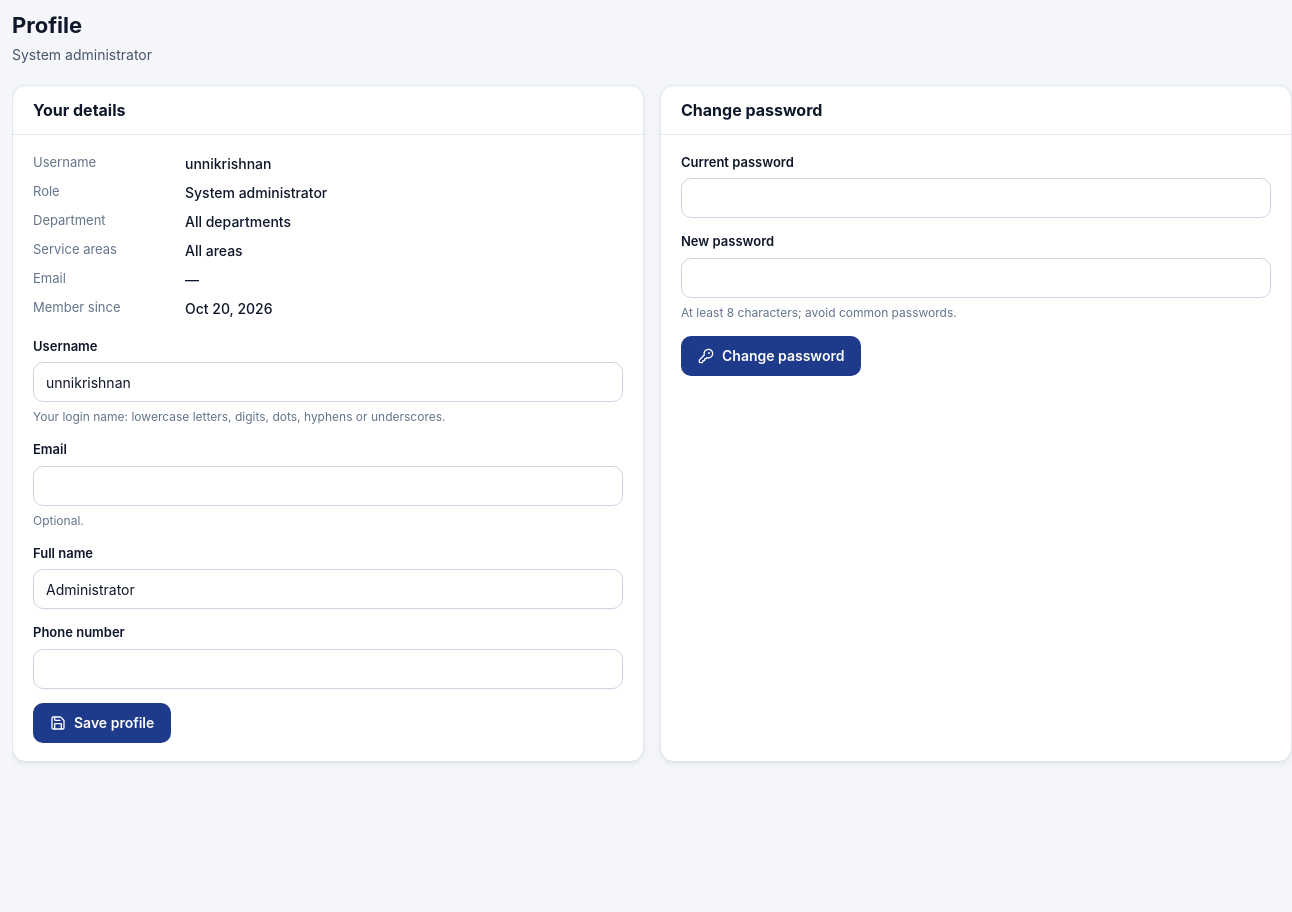
Test: ProfilePage username and email editing › saves a new username and email
The image size is (1292, 912).
Replace the text in the field labelled "Username" with "Kochi.Admin" at [328, 382], box [33,362,623,402]
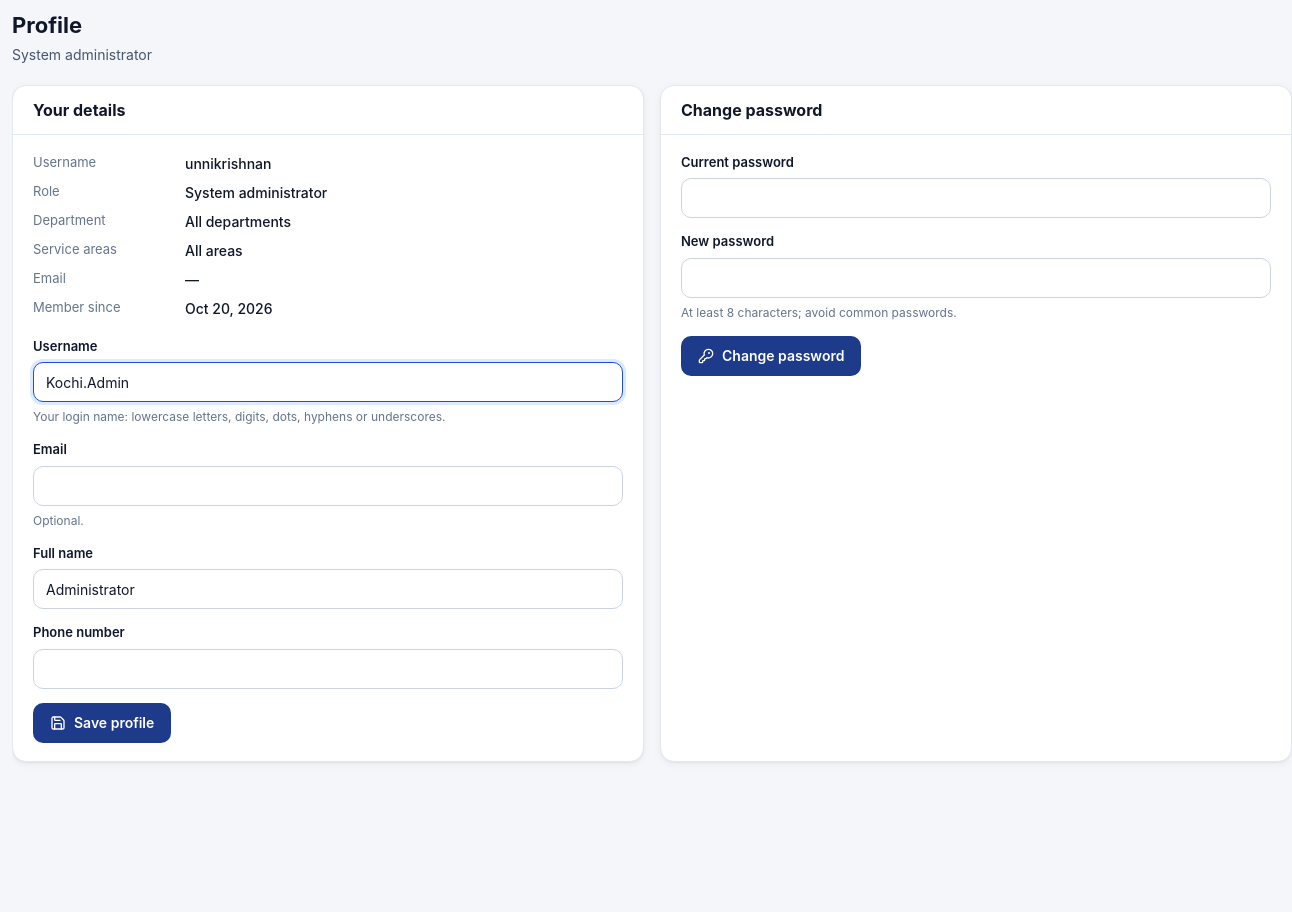
Type "Admin@Kochi.gov" into the field labelled "Email" at [328, 486], box [33,466,623,506]
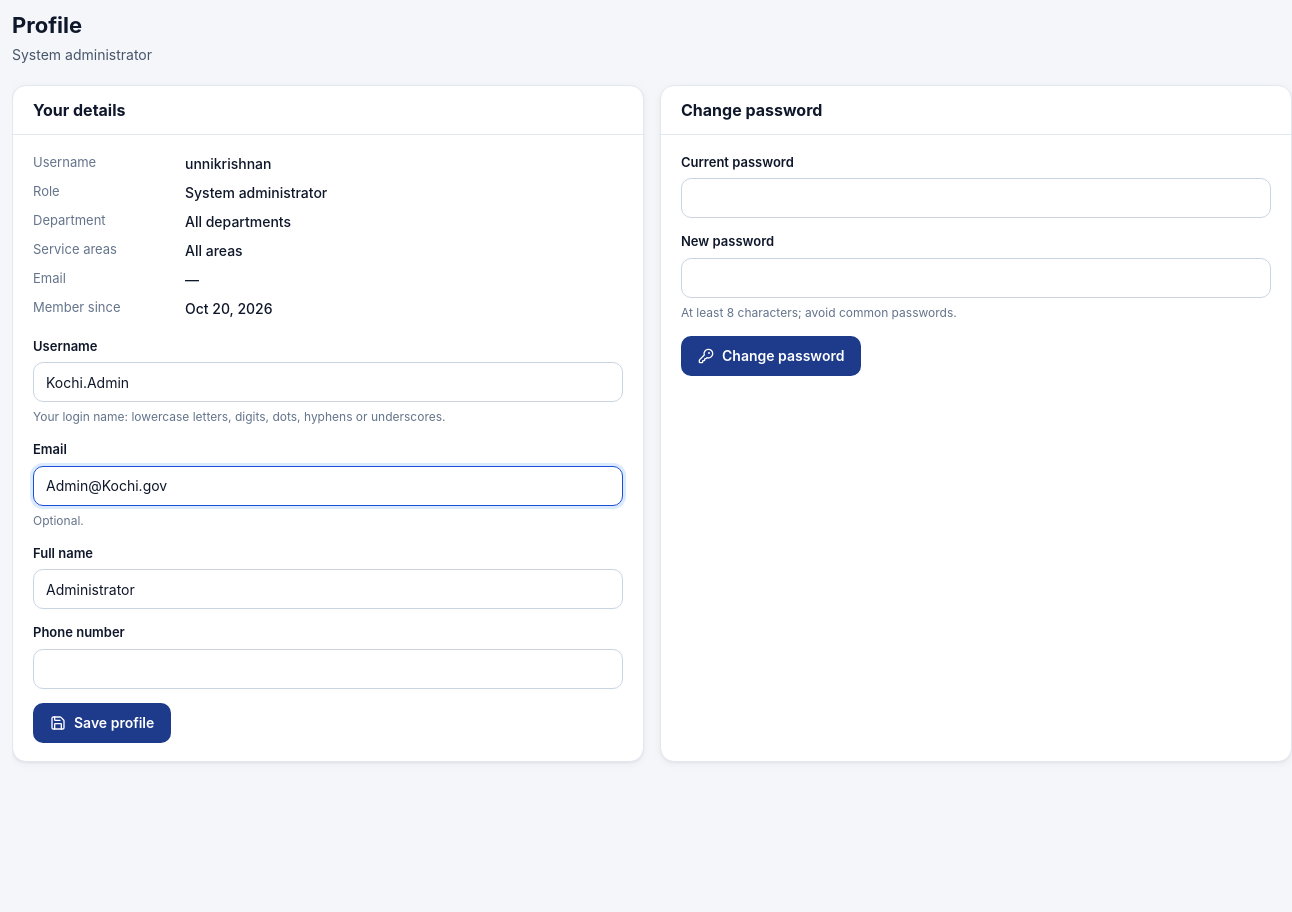
Click the button "Save profile" at [102, 722], box [33,702,171,742]
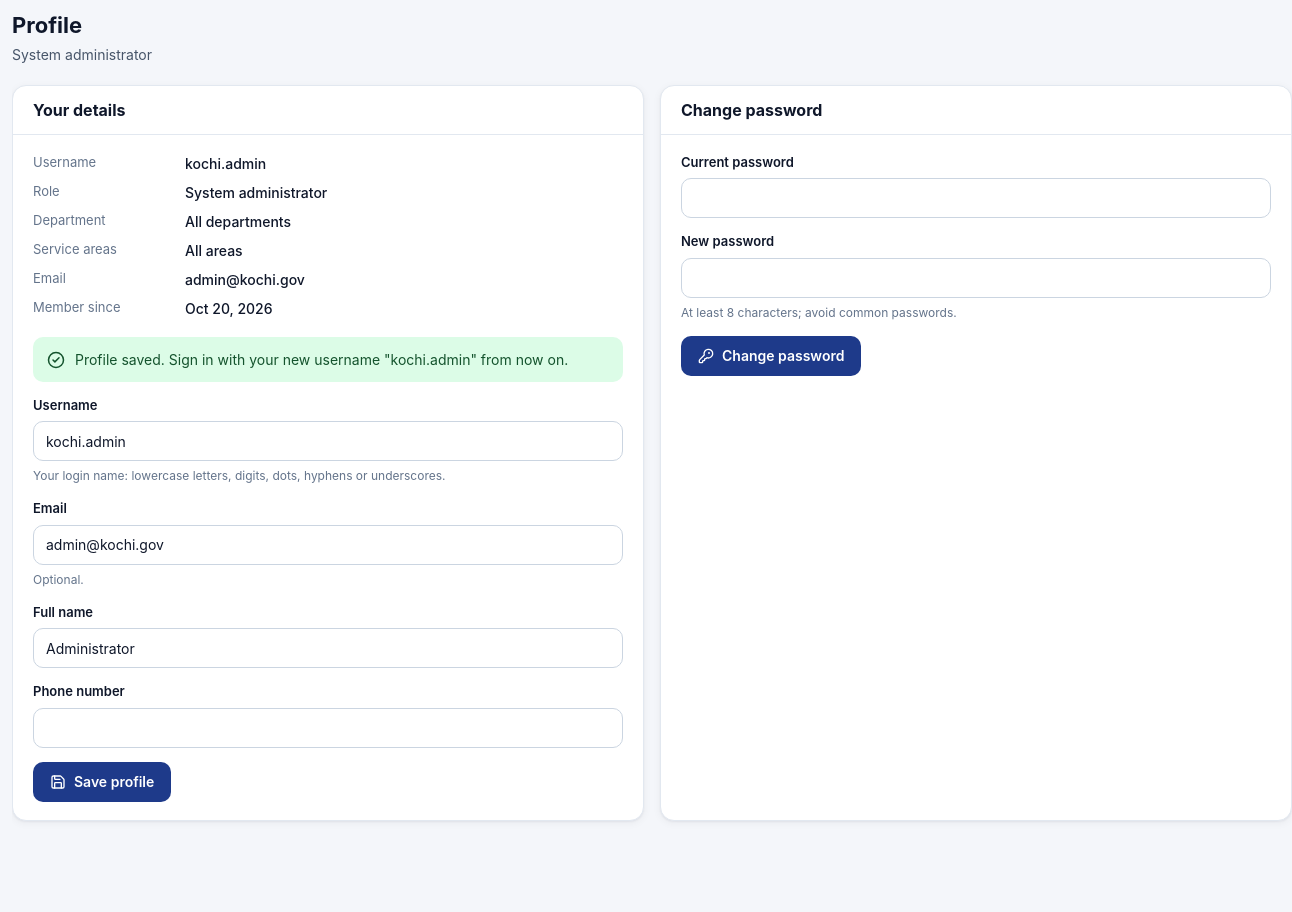
expect the text "Sign in with your new username \"kochi.admin\"" is shown: met, box [75,350,568,368]
expect the text "kochi.admin" is shown: met, box [185,154,266,172]
